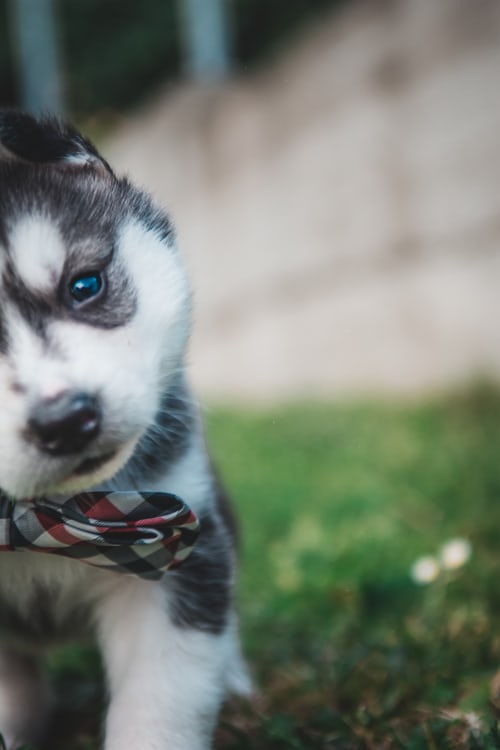husky: (1, 120, 196, 512)
